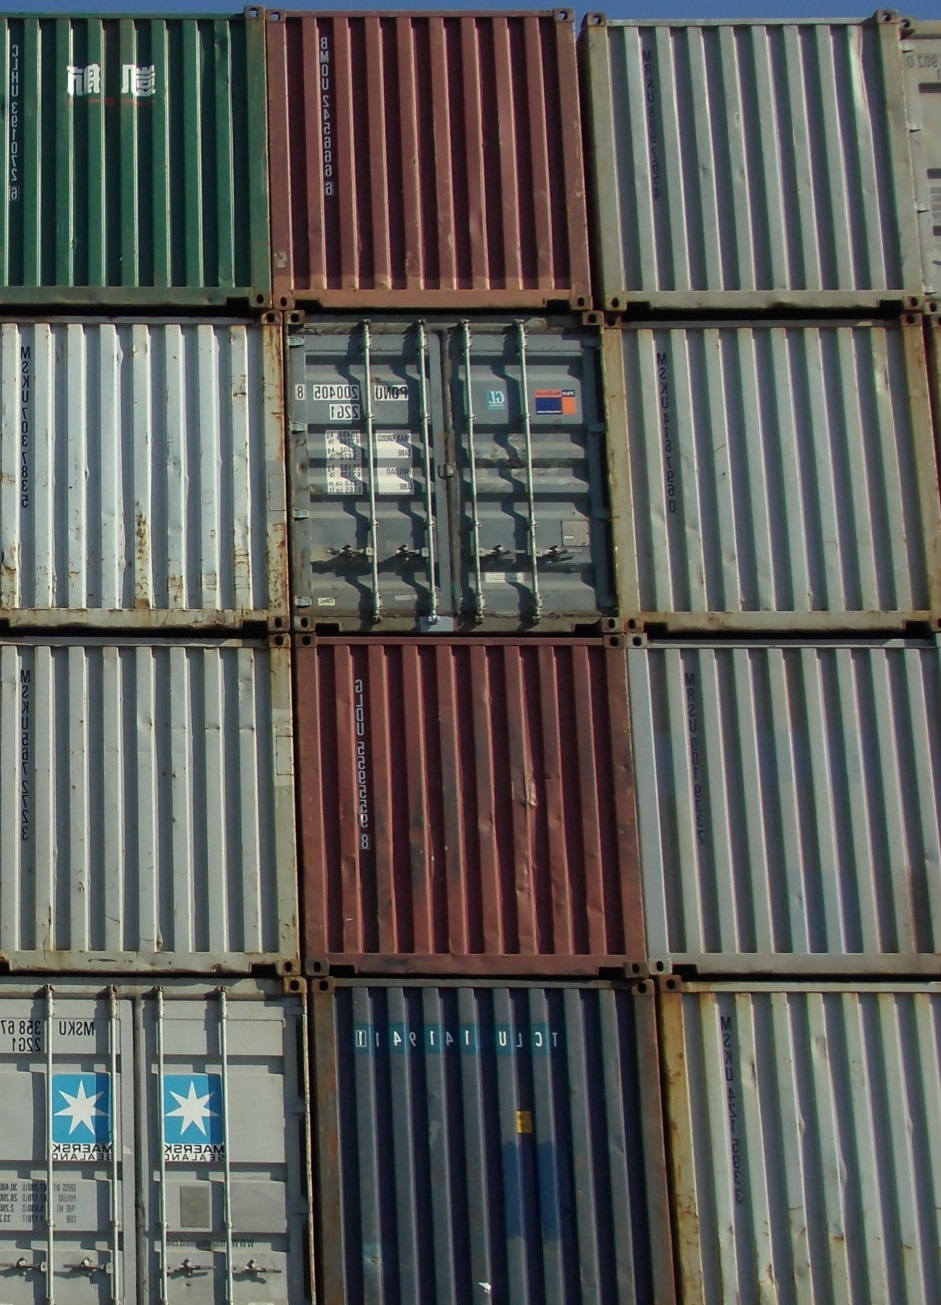container_door: (272, 305, 622, 643), (1, 975, 310, 1305)
container_no_door: (295, 635, 643, 973), (311, 981, 653, 1305), (605, 308, 941, 633), (635, 638, 941, 981), (1, 631, 305, 976), (586, 11, 918, 308), (266, 7, 598, 304), (660, 980, 941, 1305), (1, 316, 288, 633), (5, 8, 272, 313)
